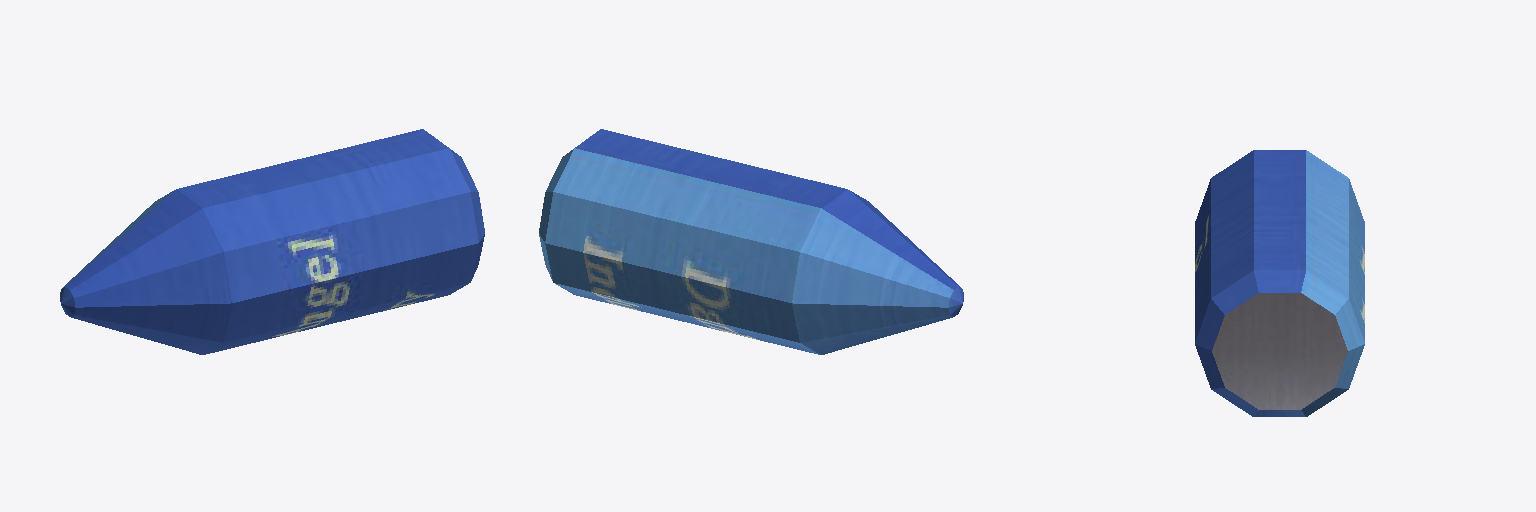
3 renders of one model, left to right at view 1: azimuth 30°, elevation 25°; view 2: azimuth 150°, elevation 25°; view 3: azimuth 270°, elevation 25°, orthographic.
Visible parts, largest first — view 1: Cylinder01; view 2: Cylinder01; view 3: Cylinder01.
Part boxes in pixels (x1,y1,x2,y2): Cylinder01: (60, 129, 484, 354); Cylinder01: (539, 129, 963, 354); Cylinder01: (1195, 150, 1364, 416).
Bounding box in the file's own units: 0.2276 × 0.0819 × 0.0861.
Materials: 1 (1 with a texture image).